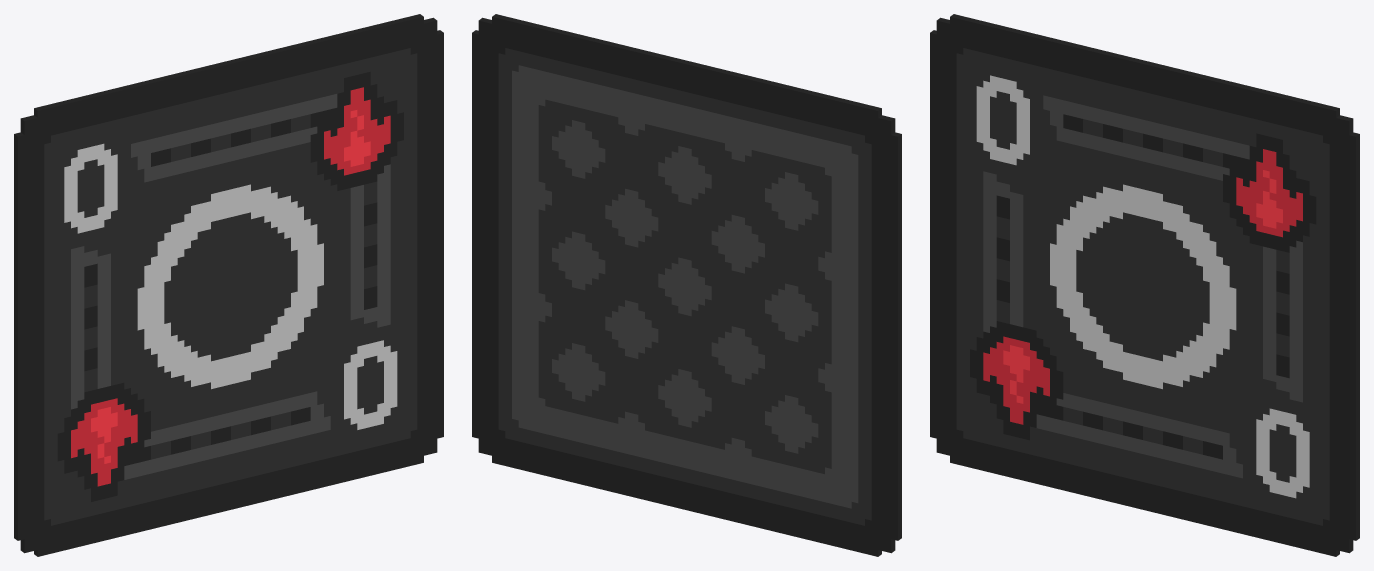
The model's file is card.gltf.
3 renders of one model, left to right at view 1: azimuth 30°, elevation 25°; view 2: azimuth 150°, elevation 25°; view 3: azimuth 330°, elevation 25°, orthographic.
Visible parts, largest first — view 1: card; view 2: card; view 3: card.
Part boxes in pixels (left/top/right/bottom): card: left=14, top=14, right=443, bottom=556; card: left=472, top=14, right=901, bottom=556; card: left=930, top=14, right=1359, bottom=556.
Size of the model in its own units: 0.5 by 0.5 by 0.00781.
1 material, 1 textured.
